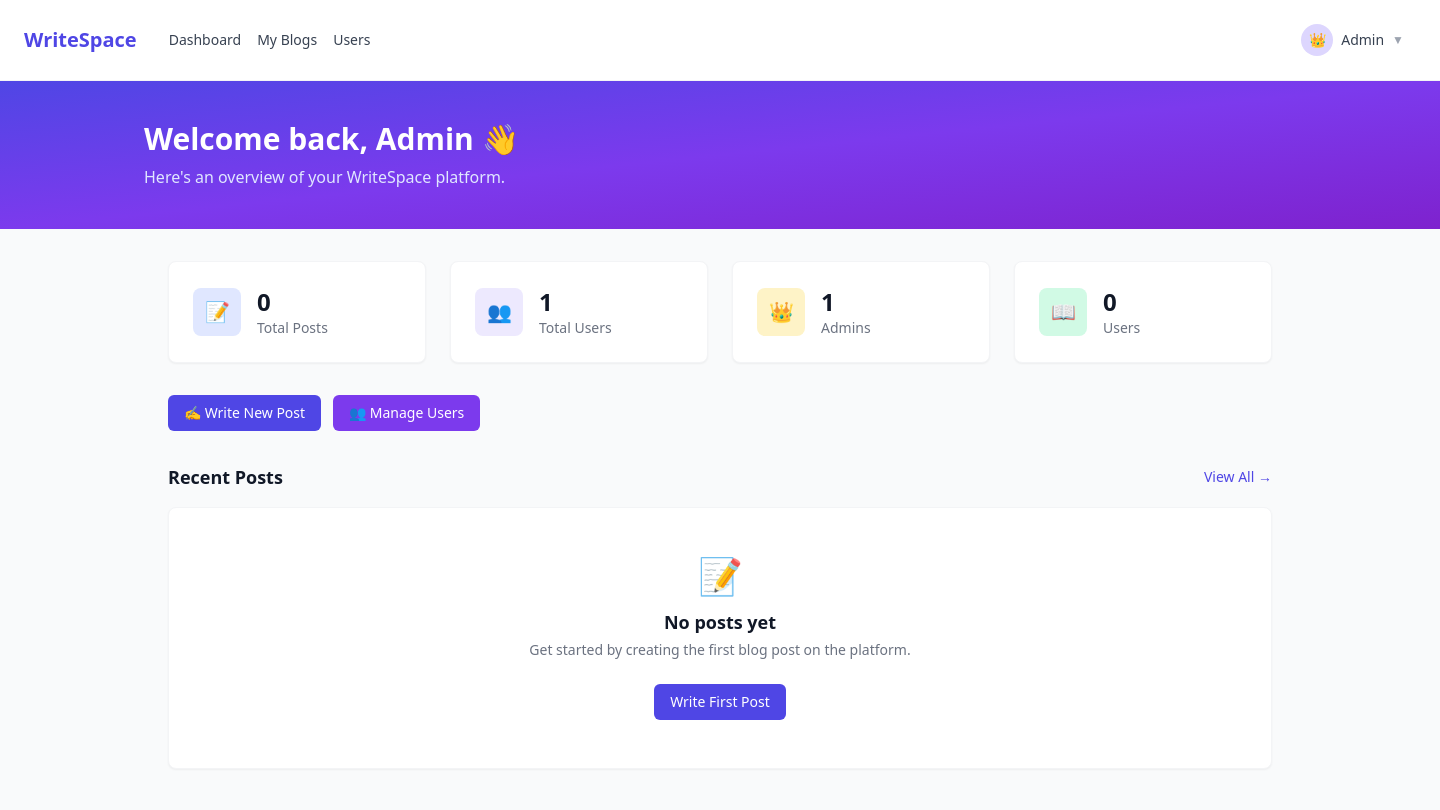
Scenario: App routing › navigation between pages › admin can navigate from dashboard to user management
Click the link "👥 Manage Users" at (407, 413), box [333, 395, 480, 431]
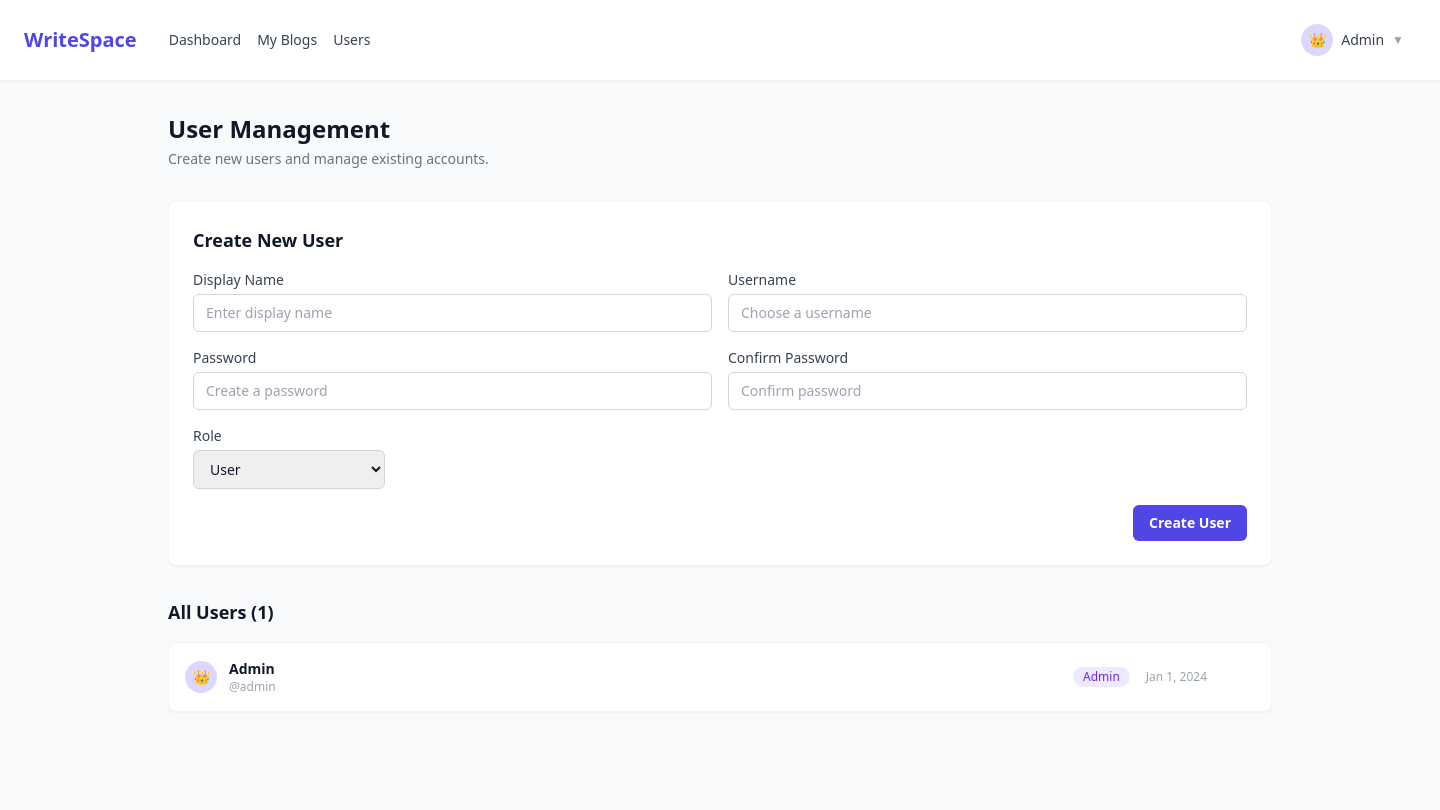
Expected: the heading "User Management" is shown, [168, 112, 390, 145]
